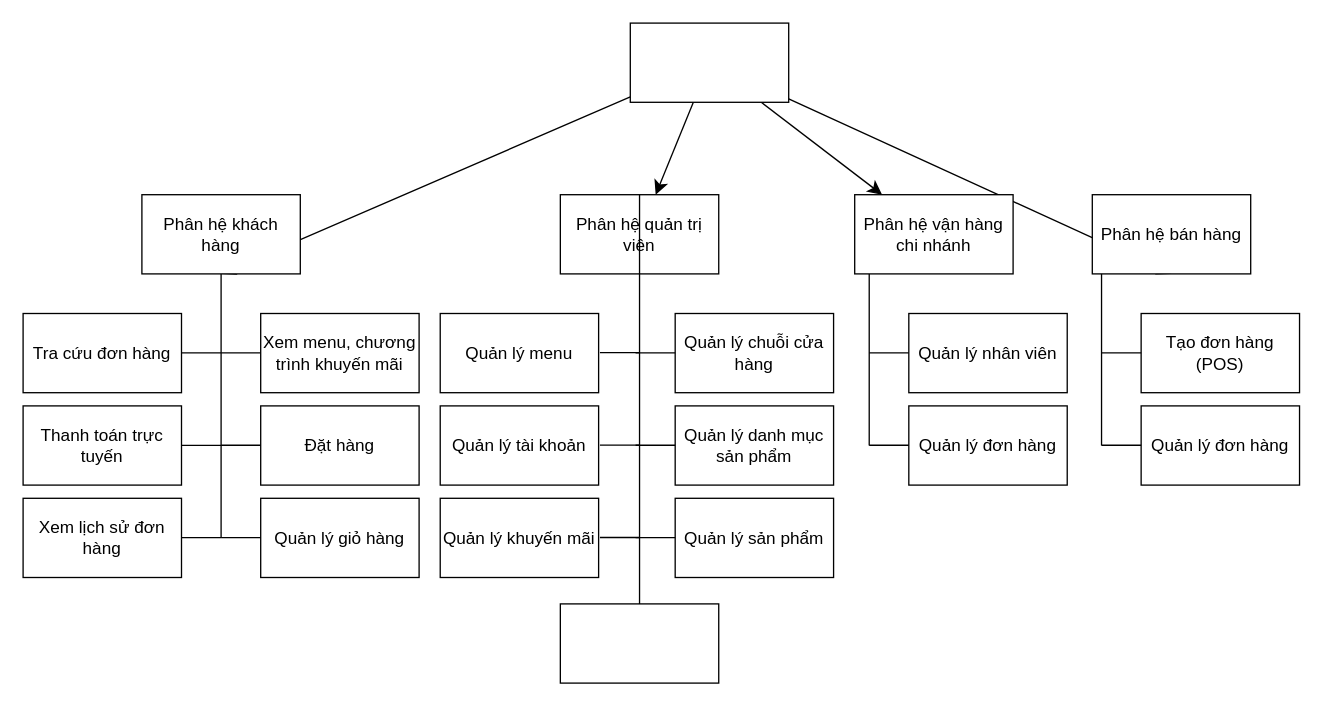
The diagram is 1323 pixels wide and 706 high, and some of its shapes have lost their labels. The shapes that lost their labels are listed below. From the top down, each one's box as (x1, y1, x2, y2) in pixels, then its label:
(629, 22, 789, 102): Hệ thống quản lý PaoPizza
(559, 603, 719, 683): Quản lý danh mục nguyên liệu
